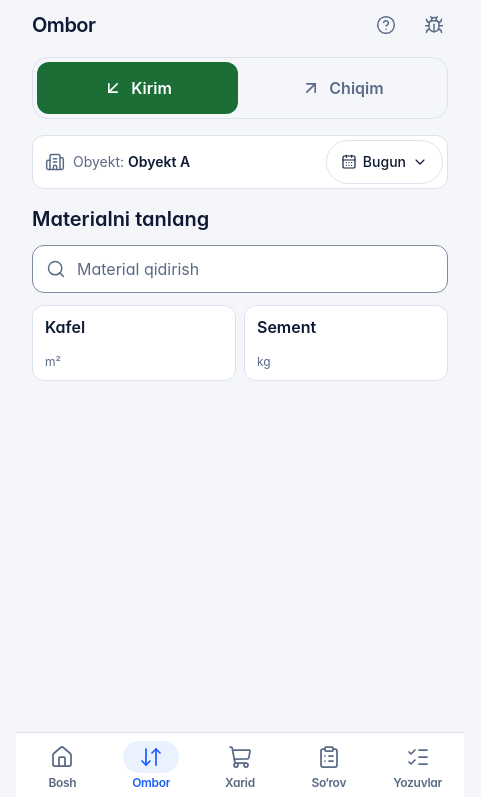
Test: Batch 12 (L) — oxirgi birlik va miqdor › birlik oldindan tanlanadi, miqdor — faqat chip (avtomatik yozilmaydi)
Click the button "Sement kg".
click(346, 343)  # box 244,305 -> 448,381
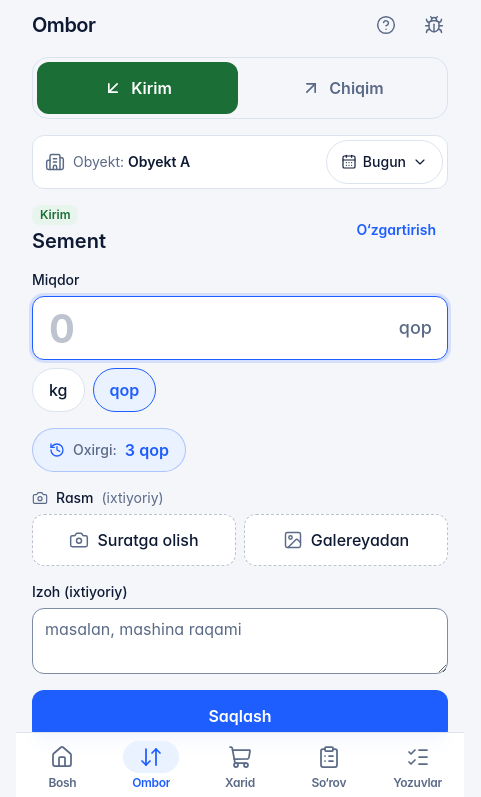
Check: the field labelled "Miqdor" is empty, box 32,296 -> 448,360
Click the button with test id "last-qty".
click(109, 450)  # box 32,428 -> 186,472
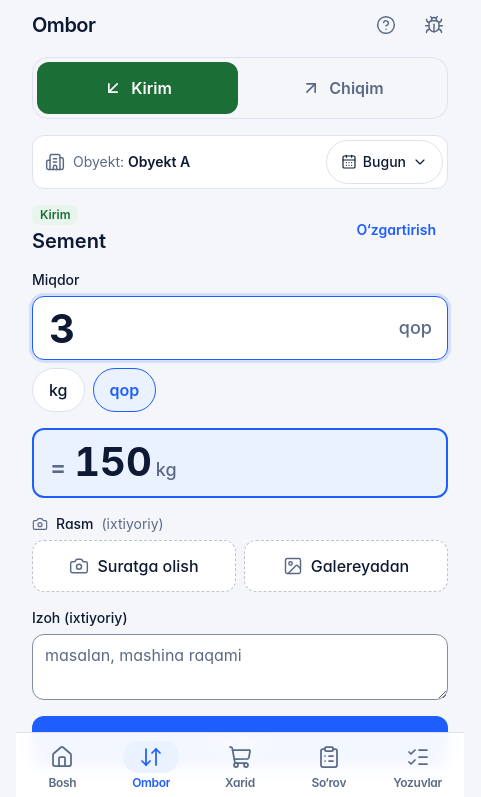
Check: the field labelled "Miqdor" holds "3", box 32,296 -> 448,360
Check: the button with test id "last-qty" is gone
